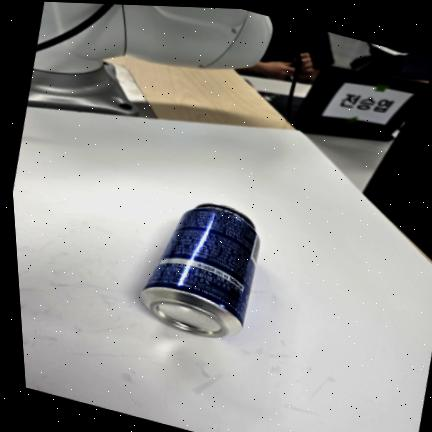can_pepsi: (142, 203, 260, 338)
